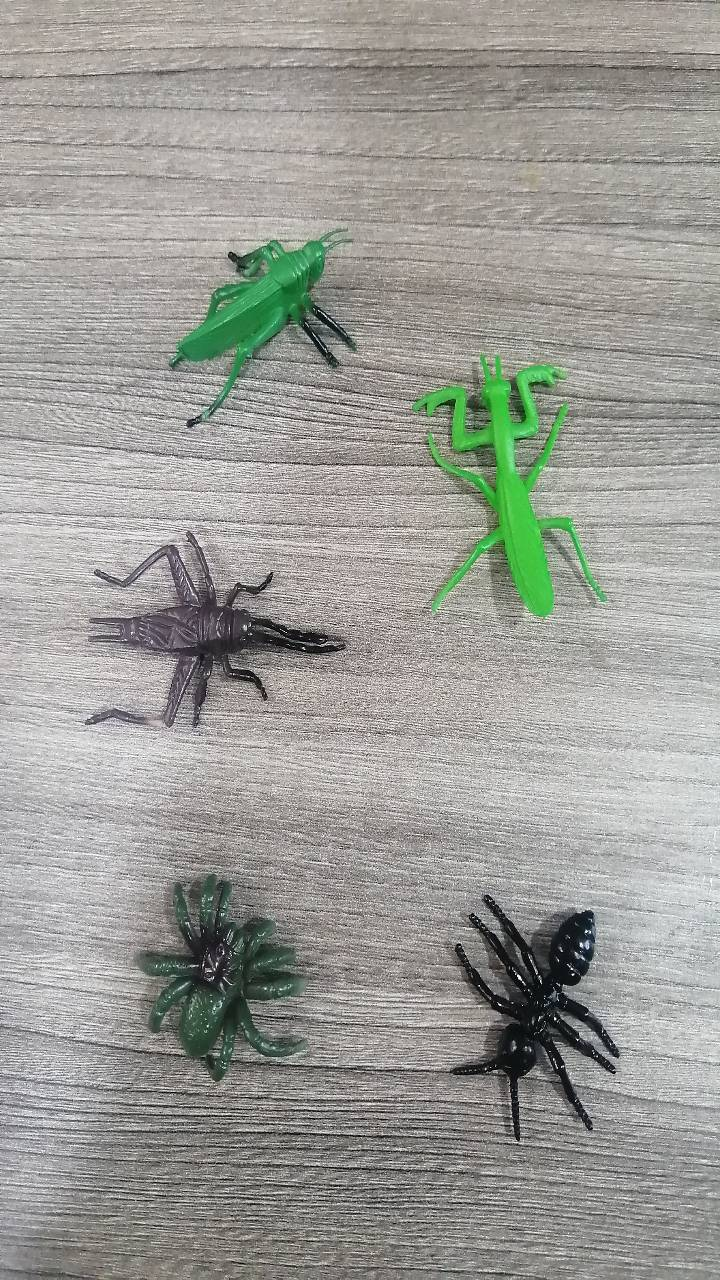intruso: (406, 854, 652, 1166), (124, 163, 374, 454), (403, 334, 623, 659), (51, 519, 334, 752), (95, 849, 343, 1097)
